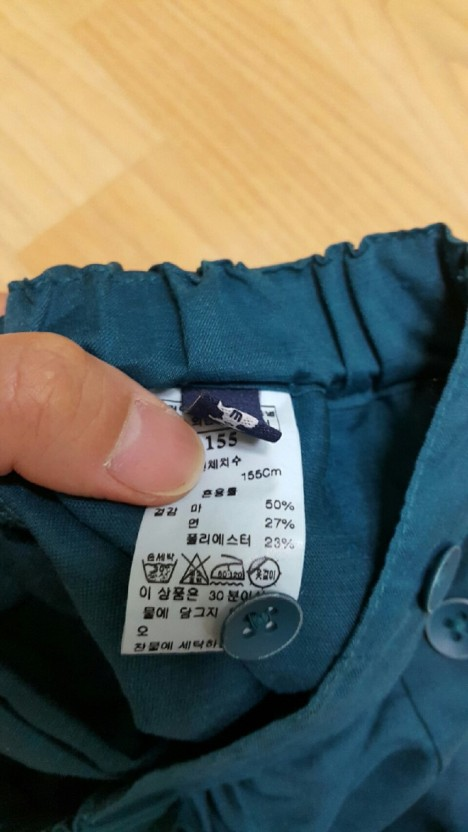KR_hand_wash_30_neutral: (141, 550, 178, 584)
KR_hang_dry_in_shade: (247, 551, 283, 590)
KR_iron_low_temp_with_cloth: (210, 551, 247, 586)
KR_no_chlorine_bleach: (178, 553, 212, 586)
